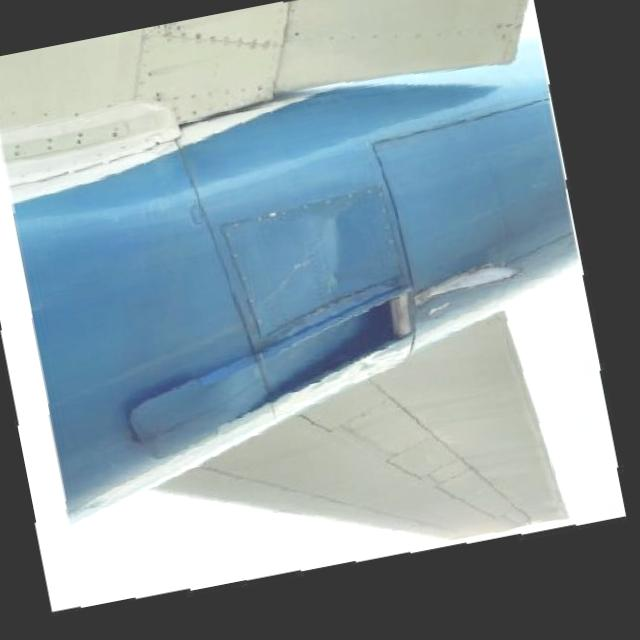dent: (290, 205, 394, 328)
